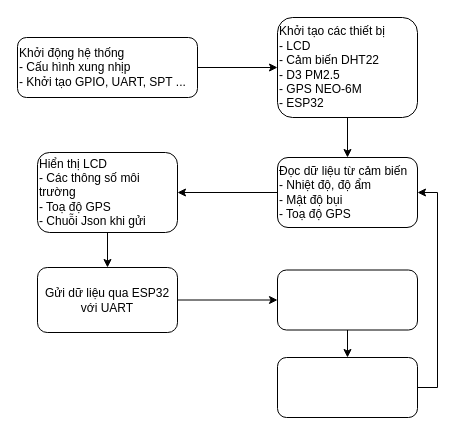
Some shapes in this 463 by 435 pixel diagram are drawn without their labels. Each missing label, with the centre of its shape:
ESP32 gửi dữ liệu lên server(Google Sheet, Blynk): [347,387]
ESP32 nhận và phân tích chuỗi Json, lấy dữ liệu: [347,299]
